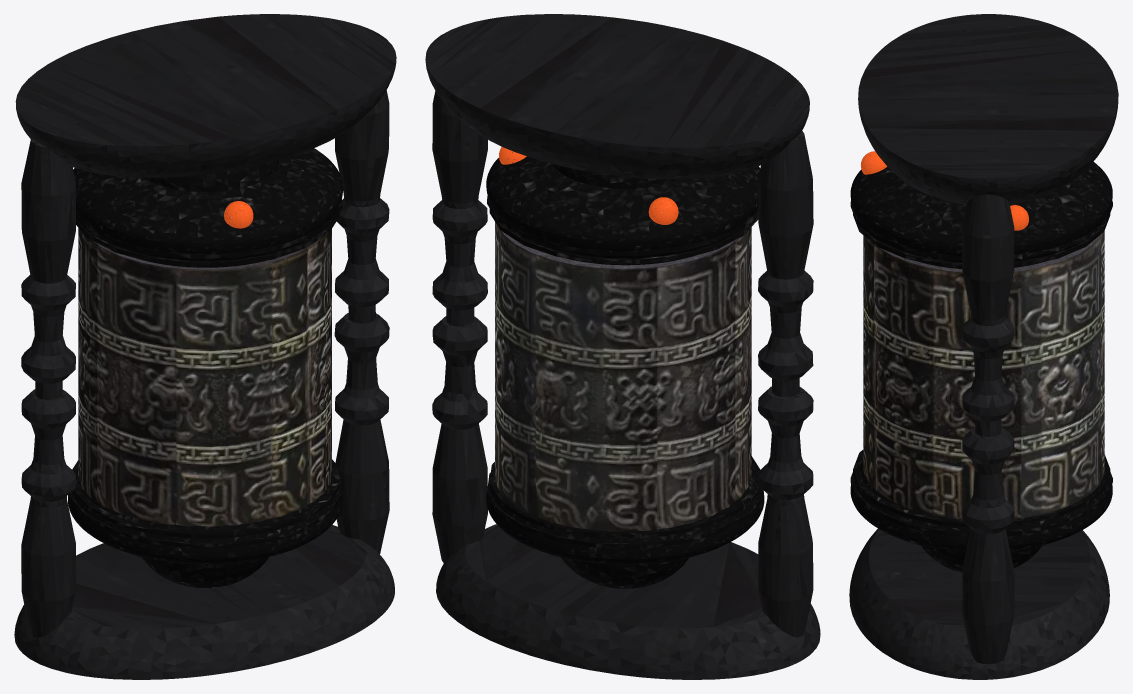
The model's file is prayer_wheel.glb.
3 renders of one model, left to right at view 1: azimuth 30°, elevation 25°; view 2: azimuth 150°, elevation 25°; view 3: azimuth 270°, elevation 25°, orthographic. The views are drawn at different scales.
Visible parts, largest first — view 1: node_shape0_dodai_0, Cylinder, node_shape0.001, node_shape0.002; view 2: node_shape0_dodai_0, Cylinder, node_shape0.001, node_shape0.002; view 3: node_shape0_dodai_0, Cylinder, node_shape0.001, node_shape0.002.
Part boxes in pixels (x1,y1,x2,y2): node_shape0_dodai_0: (14, 14, 396, 679); Cylinder: (78, 228, 331, 526); node_shape0.001: (68, 148, 343, 587); node_shape0.002: (224, 201, 253, 228); node_shape0_dodai_0: (425, 14, 820, 679); Cylinder: (495, 222, 751, 531); node_shape0.001: (486, 156, 764, 588); node_shape0.002: (499, 147, 678, 224); node_shape0_dodai_0: (849, 14, 1118, 679); Cylinder: (863, 231, 1104, 519); node_shape0.001: (850, 161, 1112, 572); node_shape0.002: (860, 151, 1028, 230).
Bounding box in the file's own units: 794 × 1098 × 532.
Materials: 4 (4 with a texture image).
